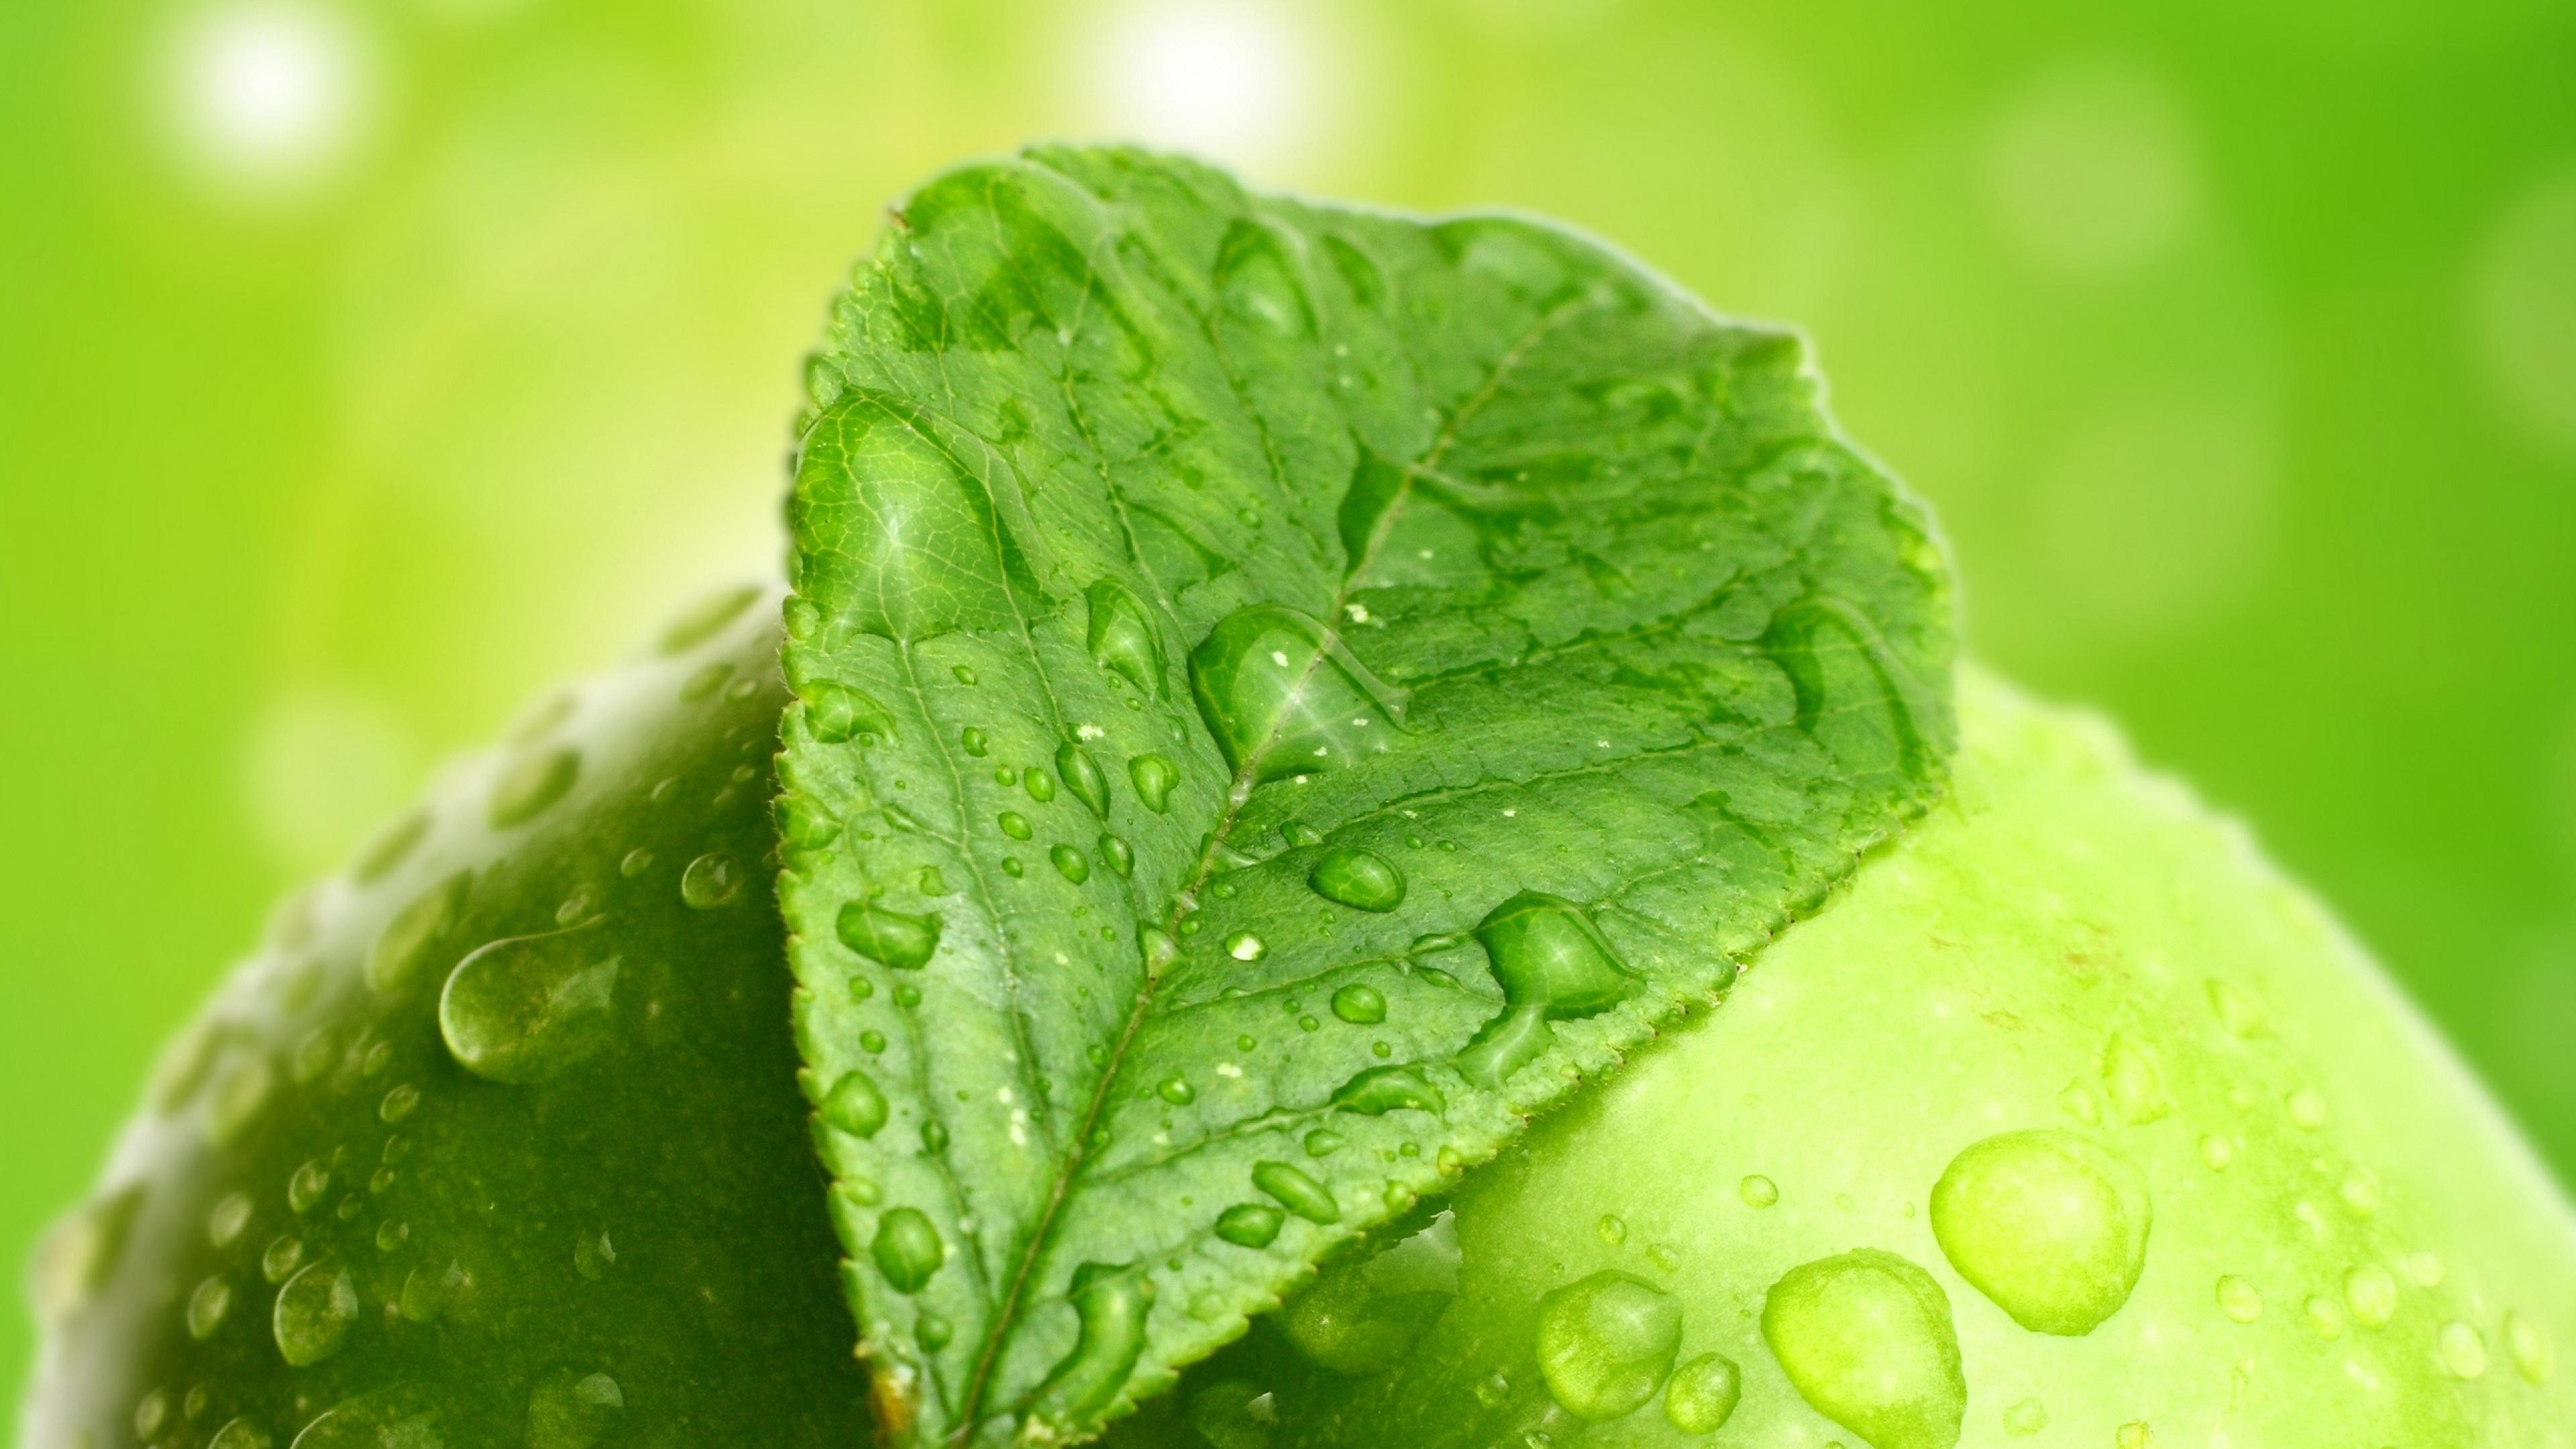Apple leaf: (752, 83, 2006, 1449)
